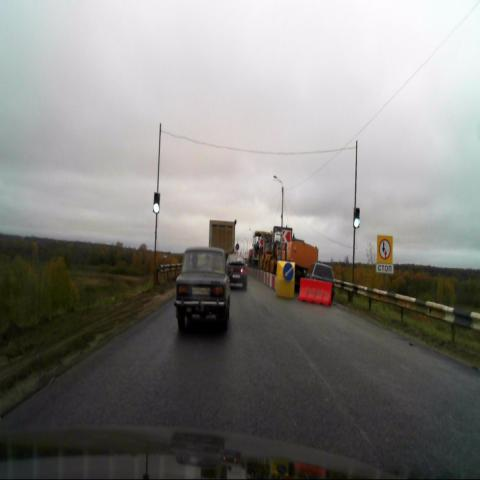2_6: (377, 236, 393, 264)
